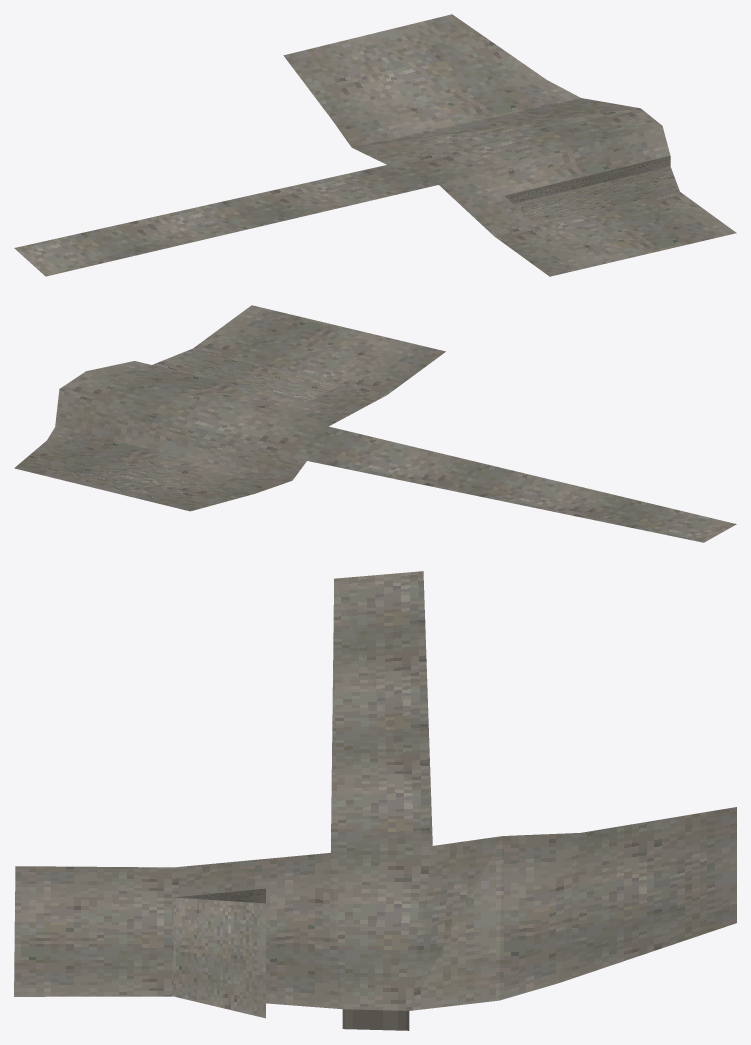
Rendered from lodlawnalley.obj.
The picture shows the model from 3 angles, top to bottom: view 1: azimuth 30°, elevation 25°; view 2: azimuth 150°, elevation 25°; view 3: azimuth 270°, elevation 25°; orthographic projection. The views are drawn at different scales.
Parts seen in each view (by area): view 1: LODlawnalley; view 2: LODlawnalley; view 3: LODlawnalley.
Part boxes in pixels (x1,y1,x2,y2): LODlawnalley: (14,14,736,276); LODlawnalley: (14,305,736,542); LODlawnalley: (14,571,736,1030).
Size of the model in its own units: 134 by 8.74 by 95.57.
Materials: 1 (1 with a texture image).
